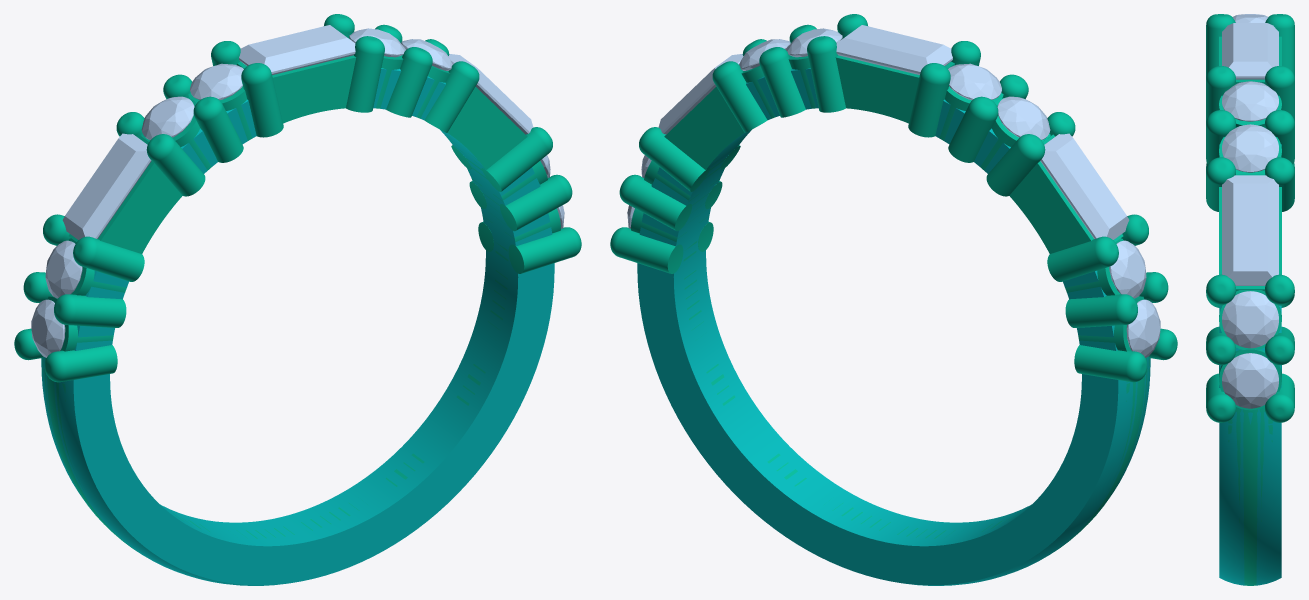
3 views of the same model, side by side, from view 1: azimuth 30°, elevation 25°; view 2: azimuth 150°, elevation 25°; view 3: azimuth 270°, elevation 25° (orthographic). The views are drawn at different scales.
Visible parts, largest first — view 1: VR BAGUETTE ROUND BAND(front).3dm, Bezel (×3), Diamond_Baguette Straight (×3), Diamond_Round (×5); view 2: VR BAGUETTE ROUND BAND(front).3dm, Bezel (×3), Diamond_Baguette Straight (×3), Diamond_Round (×5); view 3: VR BAGUETTE ROUND BAND(front).3dm, Diamond_Round (×5), Diamond_Baguette Straight (×2), Bezel (×6).
Part boxes in pixels (x1,y1,x2,y2): VR BAGUETTE ROUND BAND(front).3dm: (14,14,581,585); Bezel (×3): (68,55,527,253); Diamond_Baguette Straight (×3): (62,25,533,239); Diamond_Round (×5): (31,28,405,357); VR BAGUETTE ROUND BAND(front).3dm: (610,14,1177,585); Bezel (×3): (664,55,1123,253); Diamond_Baguette Straight (×3): (658,25,1129,239); Diamond_Round (×5): (786,28,1160,357); VR BAGUETTE ROUND BAND(front).3dm: (1206,14,1294,585); Diamond_Round (×5): (1222,14,1278,408); Diamond_Baguette Straight (×2): (1222,23,1278,285); Bezel (×6): (1219,36,1281,410).
Size of the model in its own units: 2.87 by 2.76 by 0.4277.
